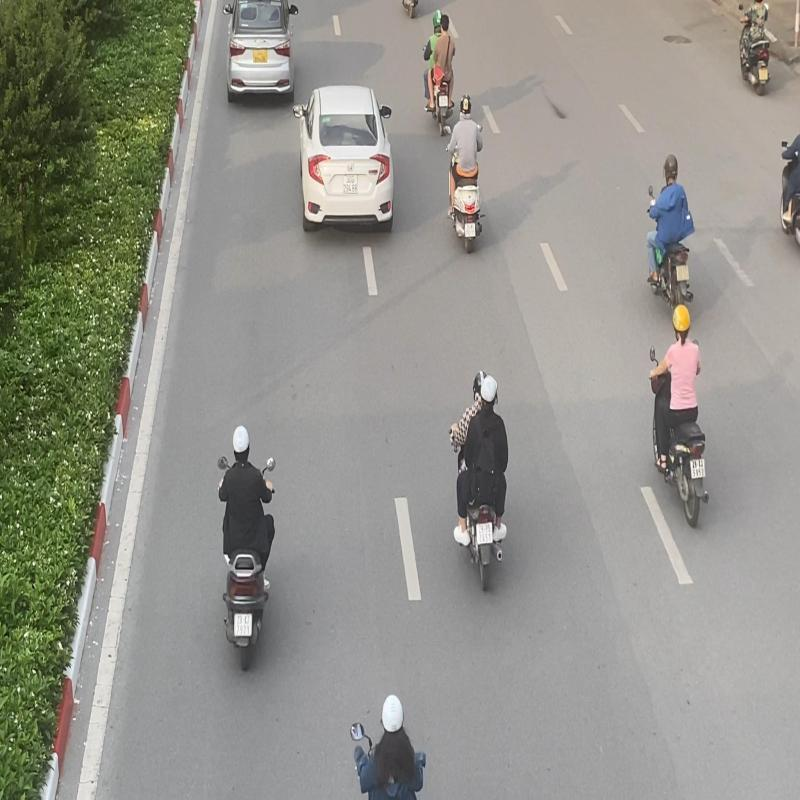helmet: (233, 424, 250, 461), (672, 303, 691, 336), (481, 375, 498, 403), (663, 154, 678, 184), (472, 368, 488, 394)
licenseplate: (234, 612, 252, 638), (476, 521, 493, 546), (690, 458, 706, 481), (676, 264, 690, 282)
motorcyclist: (216, 422, 277, 674), (447, 368, 511, 593), (648, 302, 710, 530), (645, 152, 694, 315)
nohelmet: (440, 13, 450, 34)
